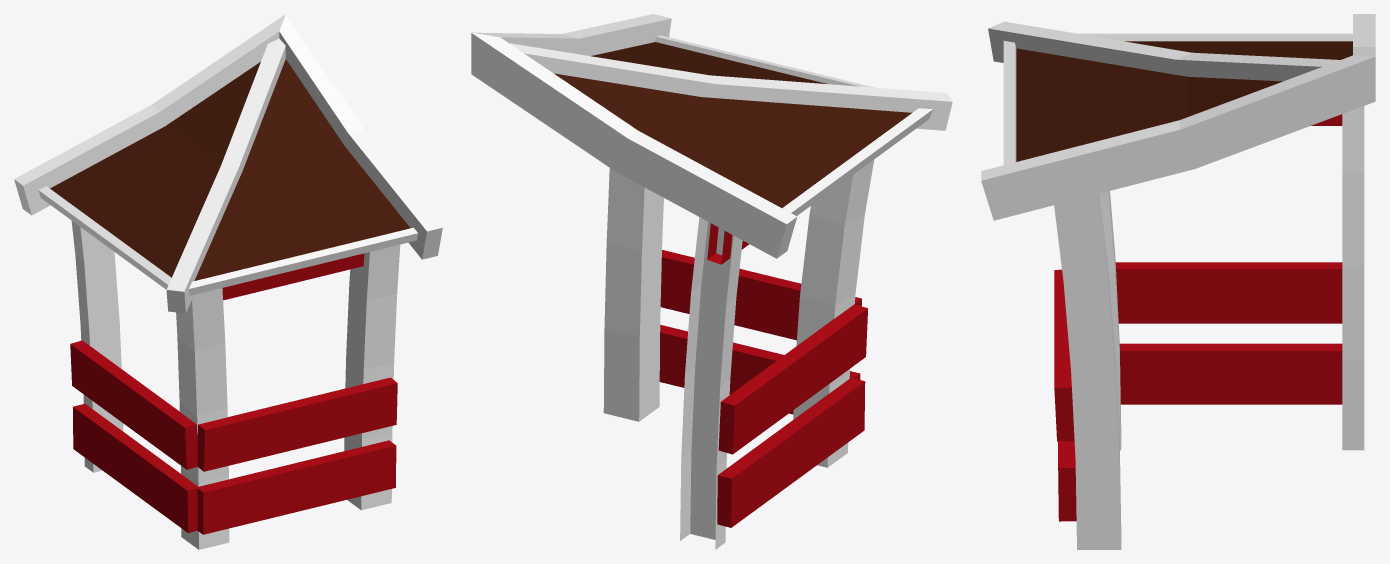
The model's file is Animal_Shed_Corner_OUT_L (2).fbx.
3 renders of one model, left to right at view 1: azimuth 30°, elevation 25°; view 2: azimuth 150°, elevation 25°; view 3: azimuth 270°, elevation 25°, orthographic. The views are drawn at different scales.
Visible parts, largest first — view 1: Corner_Out_L; view 2: Corner_Out_L; view 3: Corner_Out_L.
Boxes of the visible parts, x1,y1,x2,y2 form: Corner_Out_L: (14, 14, 442, 549); Corner_Out_L: (471, 14, 952, 549); Corner_Out_L: (981, 14, 1375, 549).
Bounding box in the file's own units: 134 × 188 × 134.
